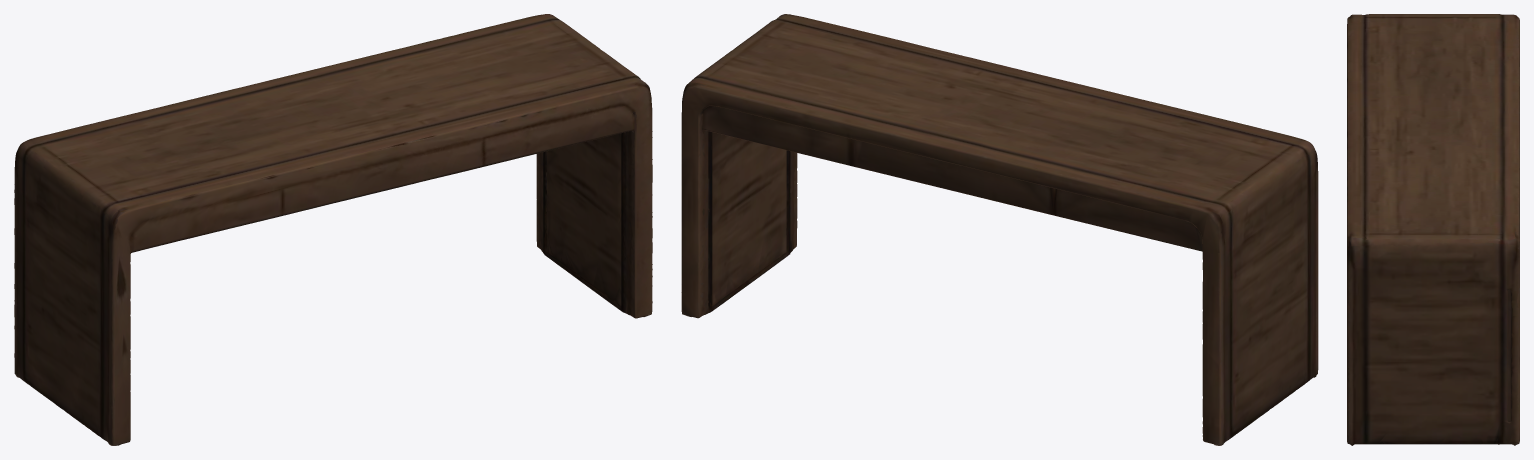
File: W1q3D6zZ4eTI4JhWaKrh6.glb
3 views of the same model, side by side, from view 1: azimuth 30°, elevation 25°; view 2: azimuth 150°, elevation 25°; view 3: azimuth 270°, elevation 25° (orthographic). The views are drawn at different scales.
Visible parts, largest first — view 1: geometry_0; view 2: geometry_0; view 3: geometry_0.
Part boxes in pixels (bbox=[...]): geometry_0: bbox=[14, 14, 652, 445]; geometry_0: bbox=[681, 14, 1318, 445]; geometry_0: bbox=[1347, 14, 1519, 445].
Bounding box in the file's own units: 1 × 0.4175 × 0.3183.
Materials: 1 (1 with a texture image).
